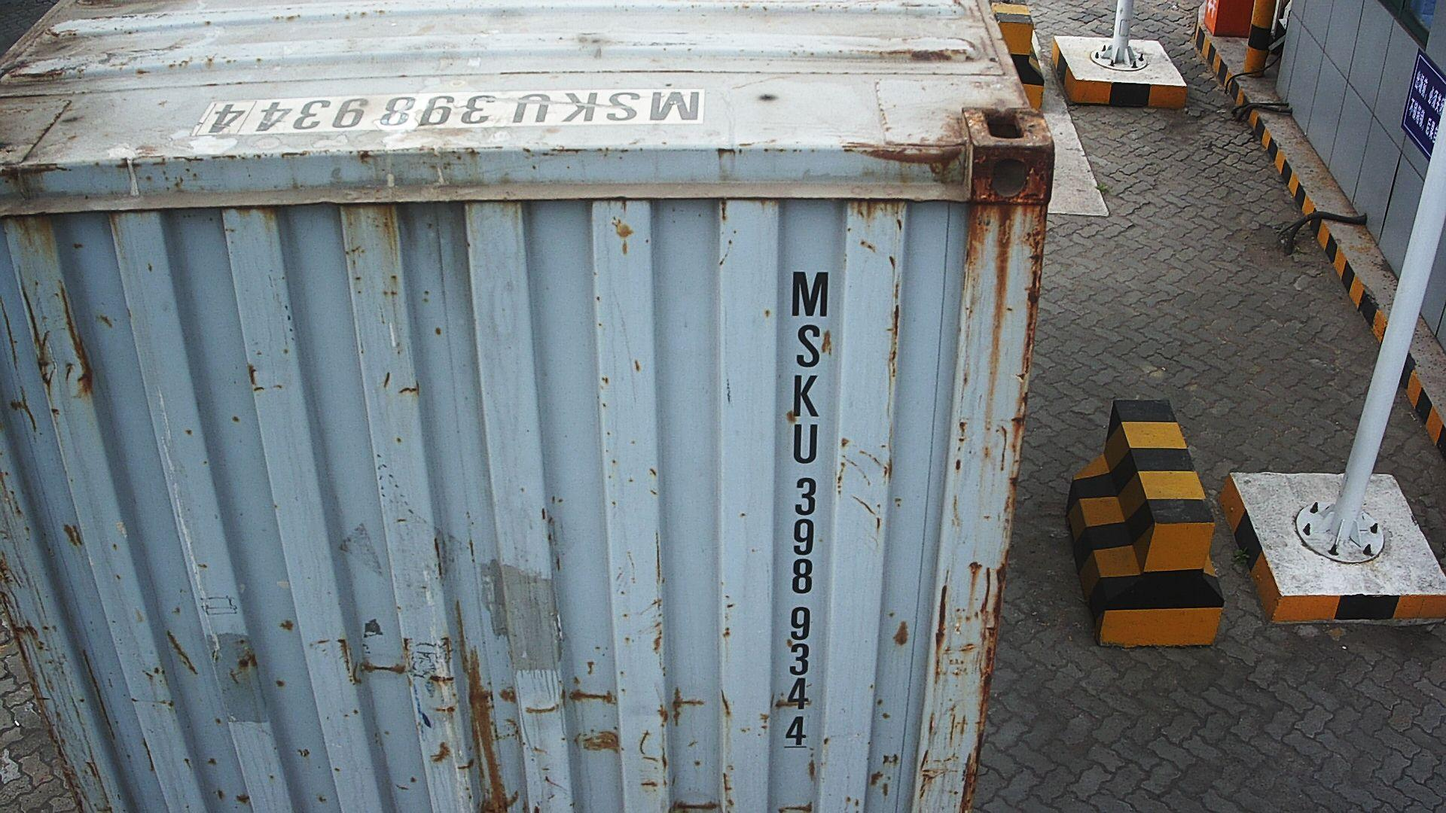container-numbers: (778, 263, 835, 755), (190, 86, 708, 139)
